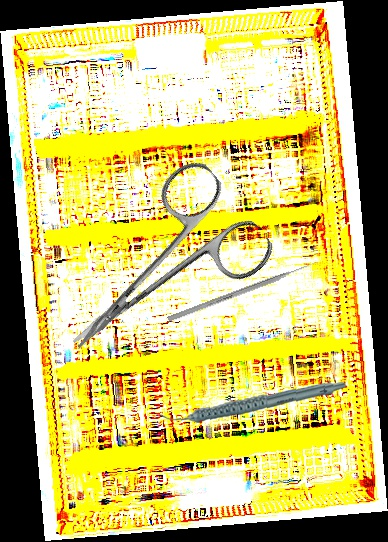Handpiece: (160, 373, 346, 429)
Iris Scissors: (31, 153, 280, 391)
Pusher: (167, 259, 319, 323)
